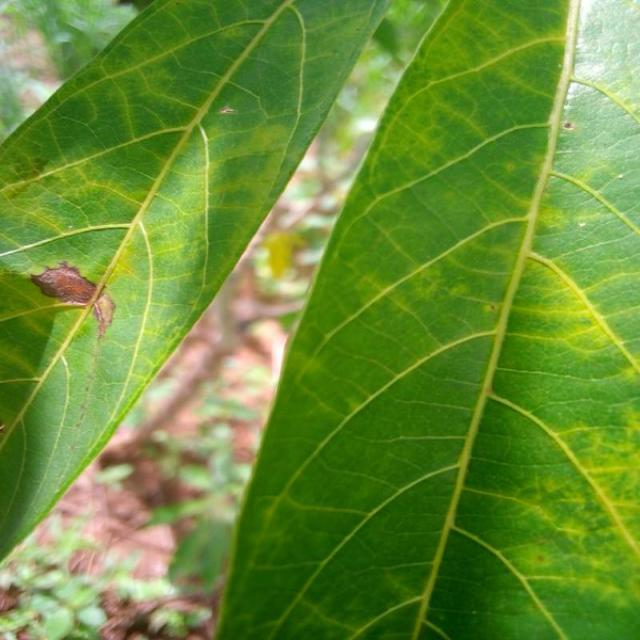cassava leaf: (213, 0, 640, 639), (1, 0, 393, 570)
